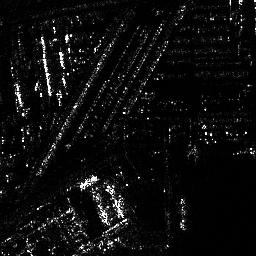ship: (179, 196, 186, 231)
